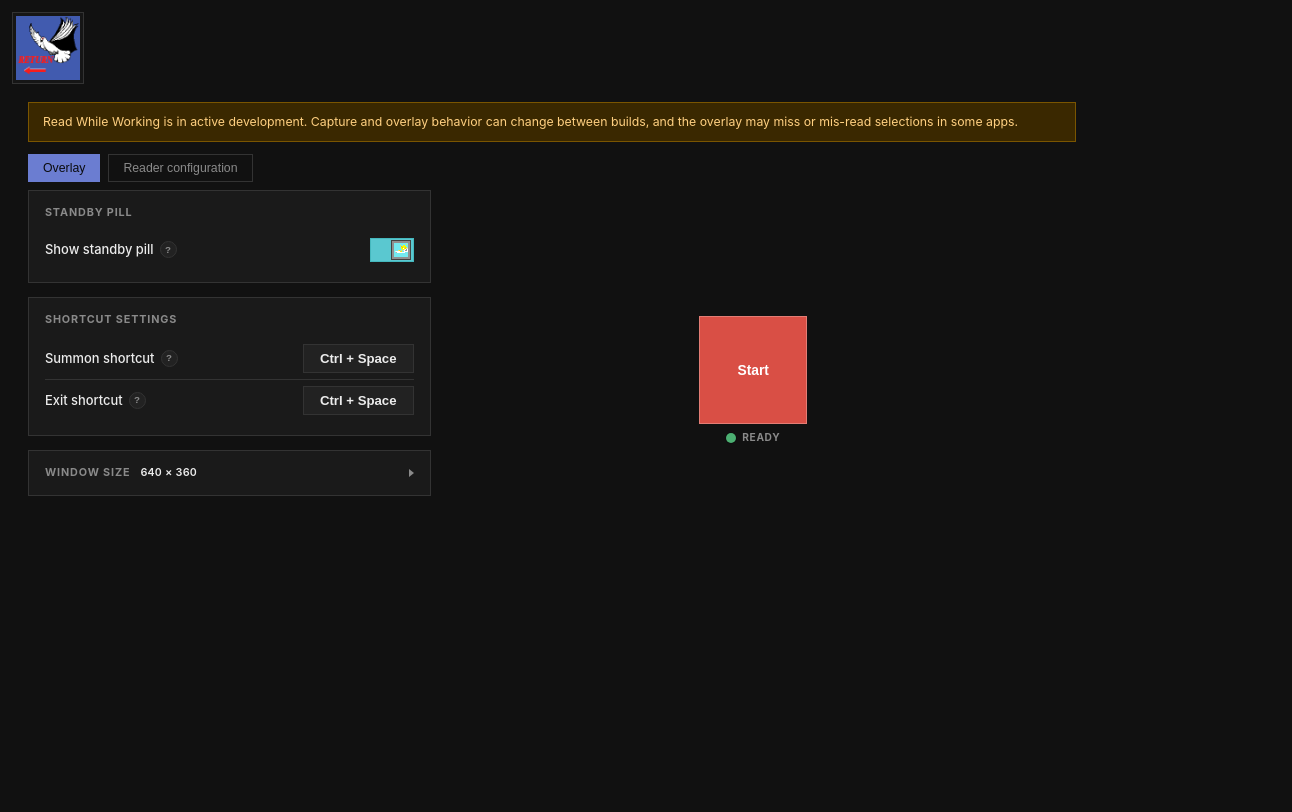
Read while working onboarding › mounts the viewport Start host on Reader configuration so the 16px inset override applies
The image size is (1292, 812).
Expected: the element with class "rww-start-control--embedded" is shown, [699,316,807,443]
Click the tab "Reader configuration". click: (180, 168)
box: [108,154,253,182]
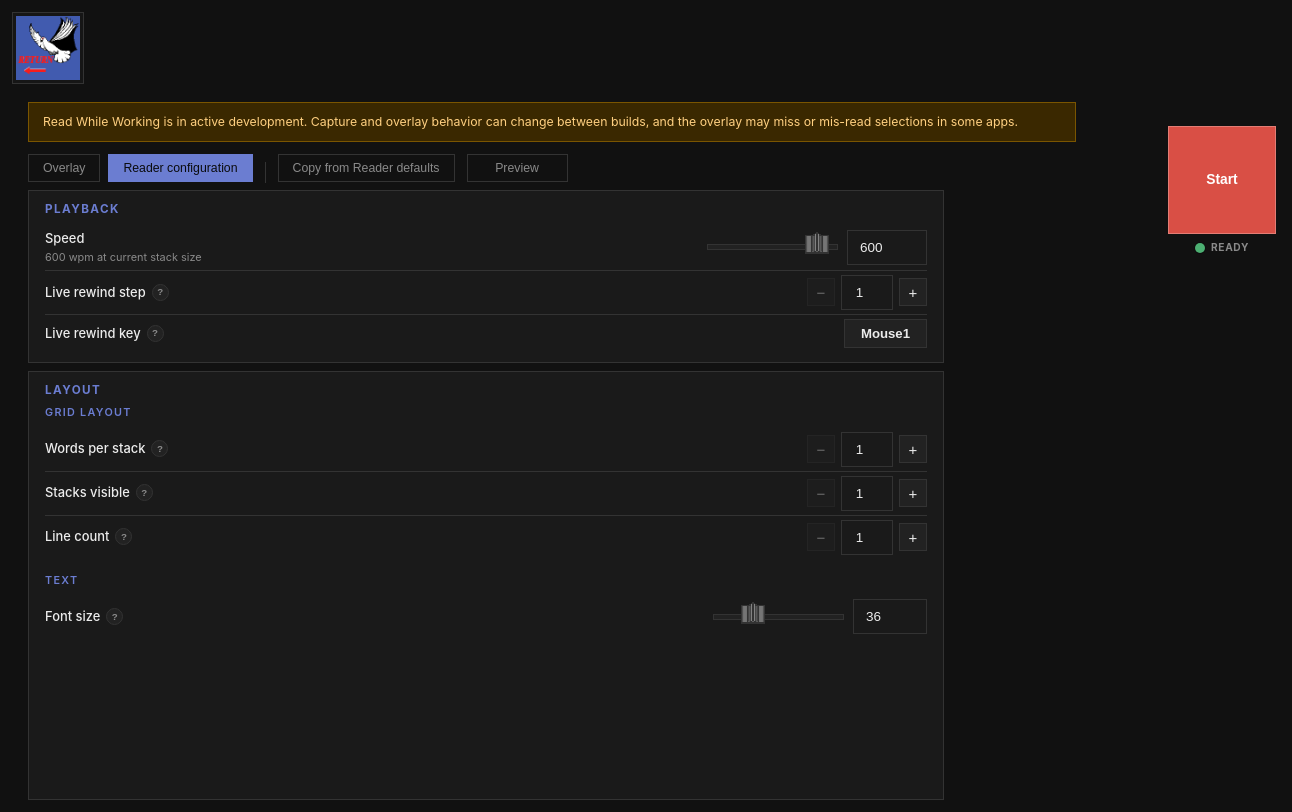
Expected: the button with class "up-level-control" is shown, [12,12,84,84]
Now the element with class "rww-start-control--viewport" is shown, box [1168,126,1276,255]
Now the element with class "rww-start-control--embedded" is gone
